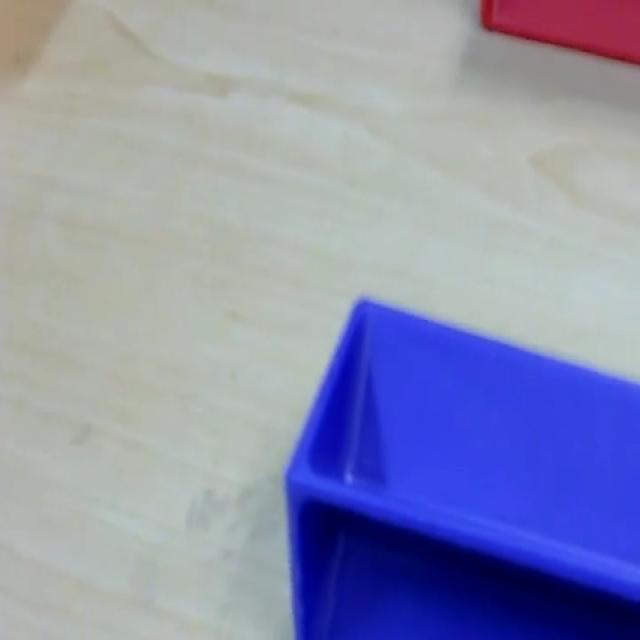blue_block: (284, 293, 638, 636)
